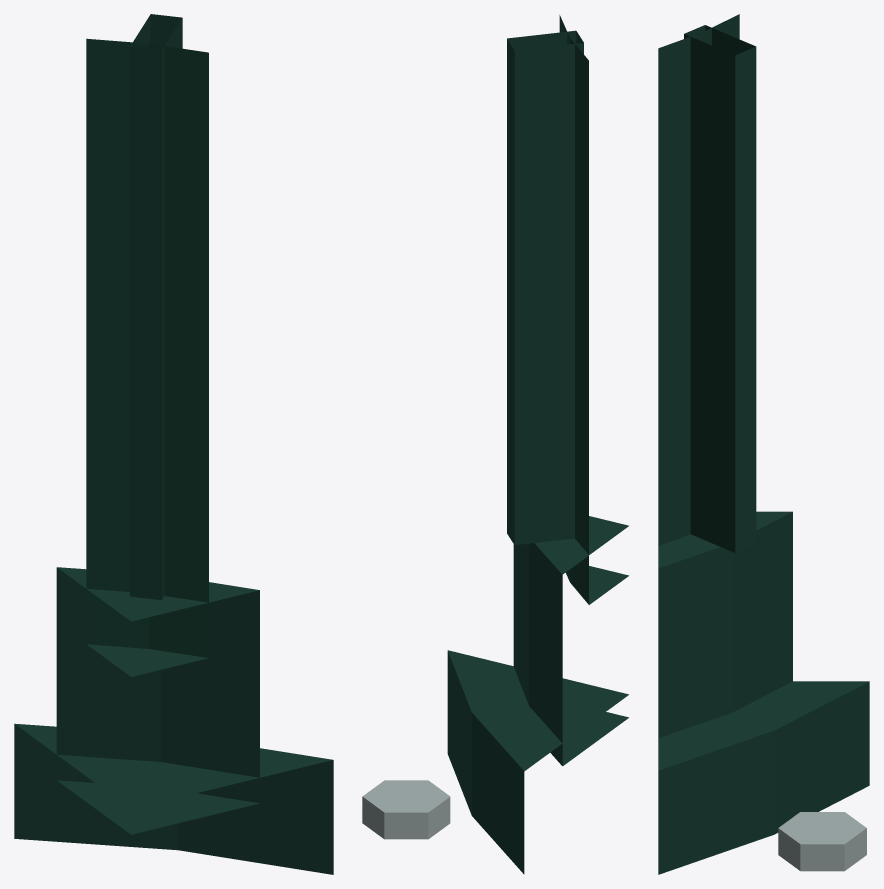
The model's file is cell_38.obj.
3 renders of one model, left to right at view 1: azimuth 30°, elevation 25°; view 2: azimuth 150°, elevation 25°; view 3: azimuth 270°, elevation 25°, orthographic. The views are drawn at different scales.
Size of the model in its own units: 0.2483 by 1 by 0.2483.
